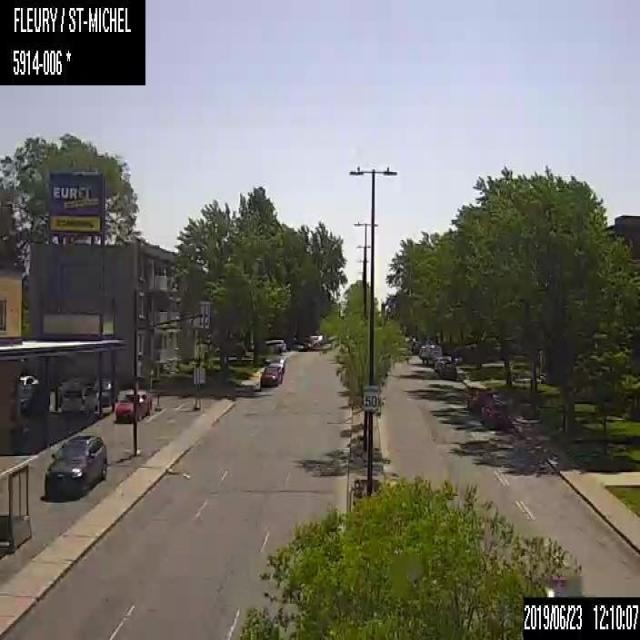vehicle: (42, 432, 107, 501), (58, 383, 97, 417), (115, 389, 152, 424), (480, 401, 509, 427), (466, 386, 492, 412), (258, 364, 281, 387), (419, 342, 442, 364), (439, 362, 458, 378), (269, 355, 283, 374), (19, 374, 37, 384)
